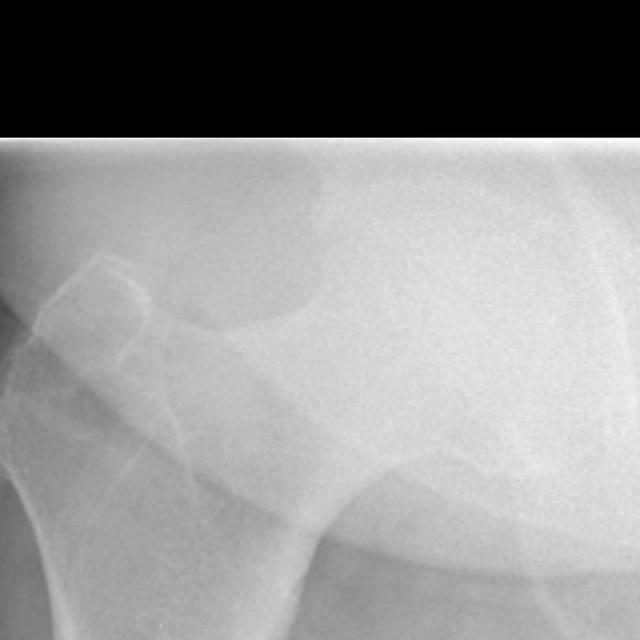Fitted_femural_head: (362, 170, 432, 362)
